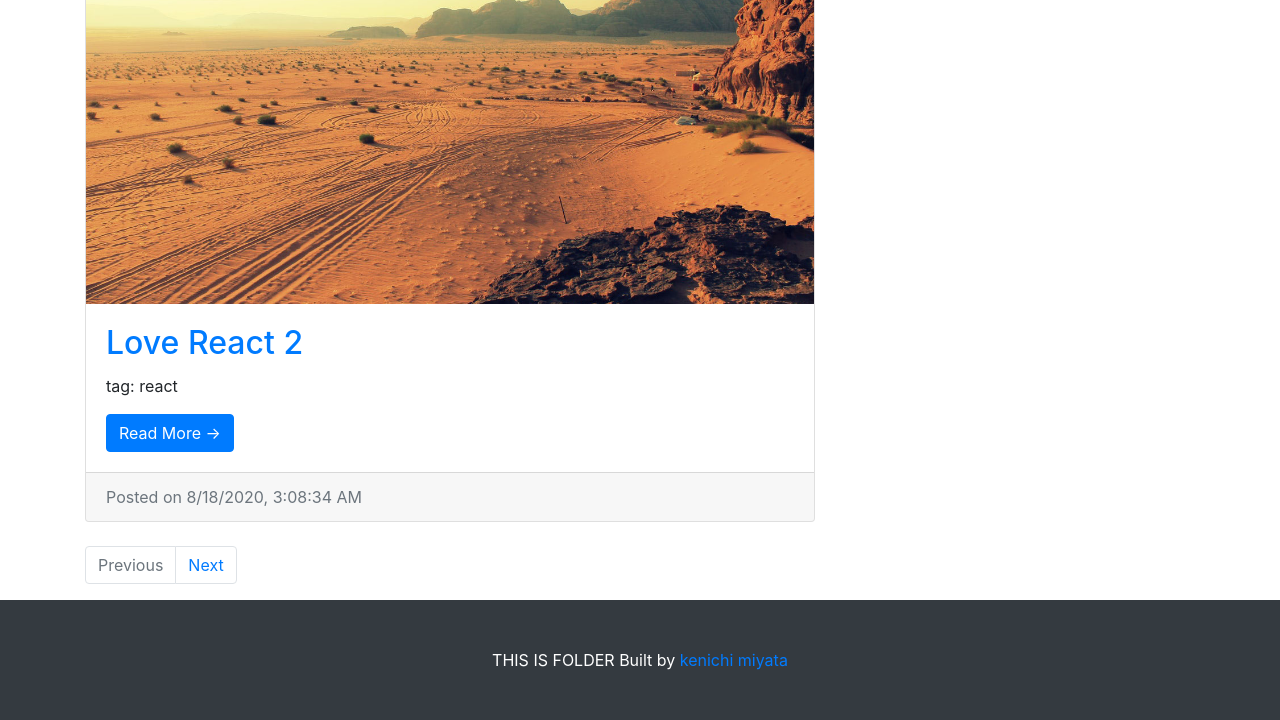
Scenario: Test Pagination
(page scrolled)
Click the link "Next" at point(206, 565), box [175,546,237,584]
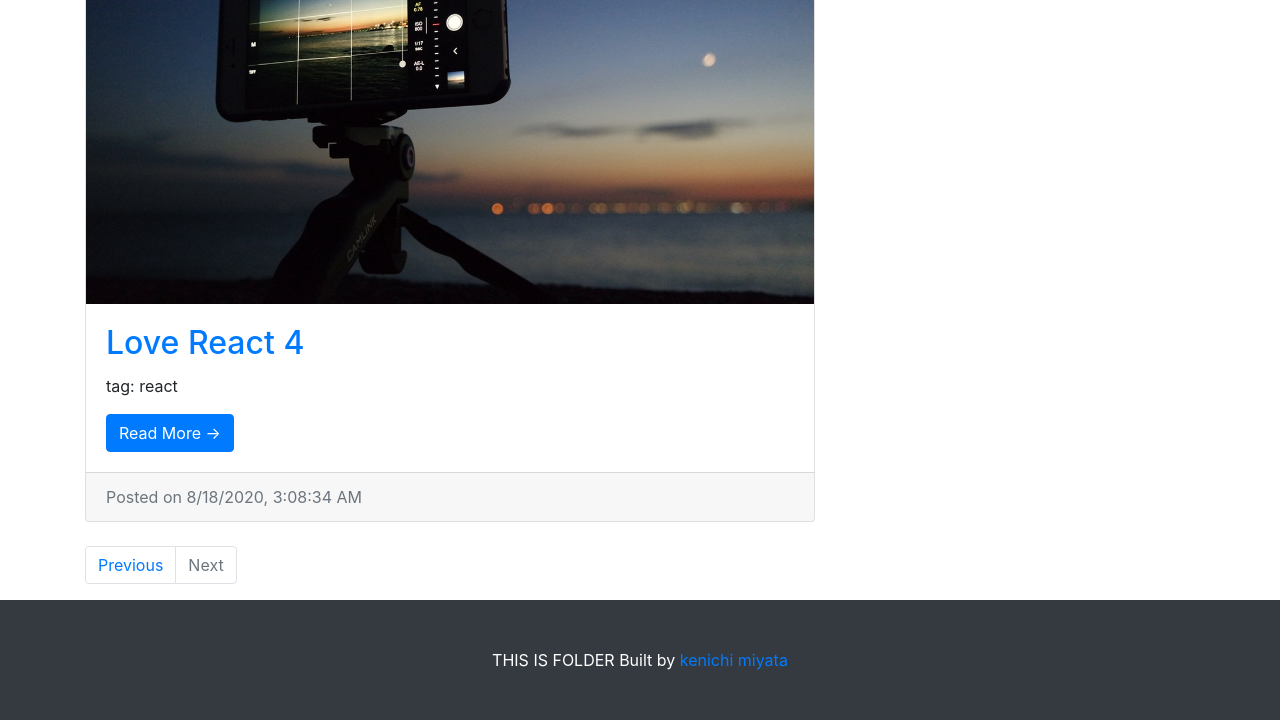
Result: the link "Love React 4" is shown at [106,323,304,362]
